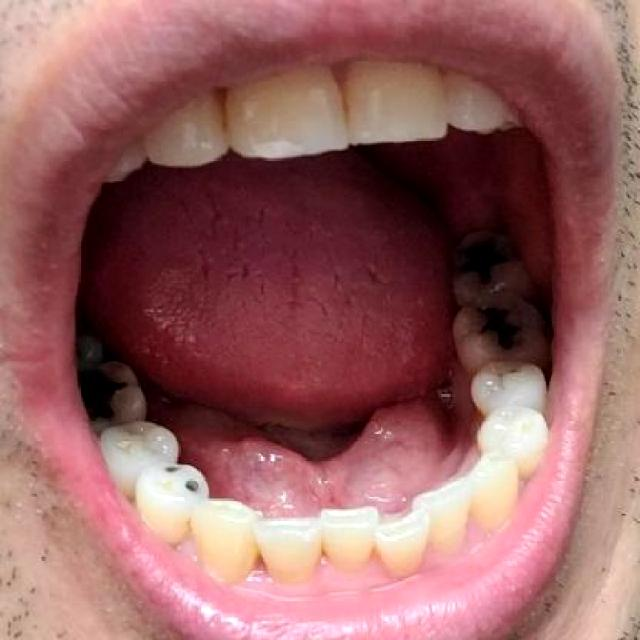Plaque: (104, 422, 163, 460), (491, 365, 528, 392)
